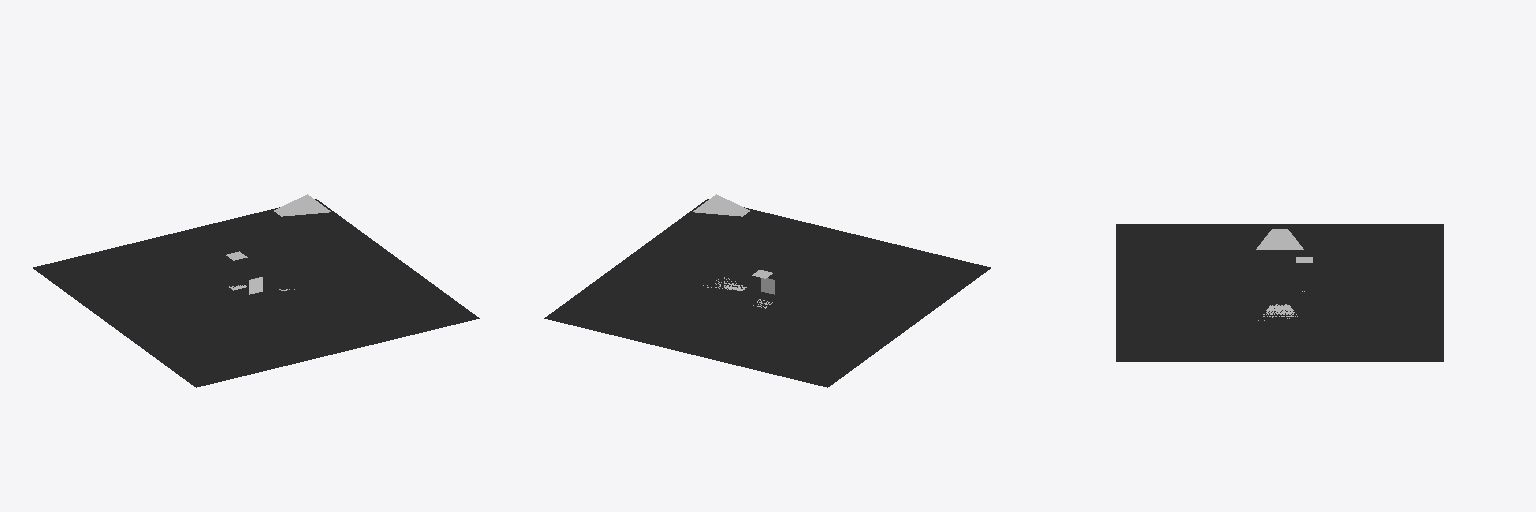
3 views of the same model, side by side, from view 1: azimuth 30°, elevation 25°; view 2: azimuth 150°, elevation 25°; view 3: azimuth 270°, elevation 25° (orthographic).
Parts seen in each view (by area): view 1: object 1, object 11; view 2: object 1, object 11; view 3: object 1, object 11.
Part boxes in pixels (x1,y1,x2,y2): object 1: (33, 199, 479, 387); object 11: (274, 194, 330, 290); object 1: (544, 199, 990, 387); object 11: (693, 194, 749, 290); object 1: (1116, 224, 1443, 361); object 11: (1256, 229, 1303, 320).
Size of the model in its own units: 40 by 10 by 40.